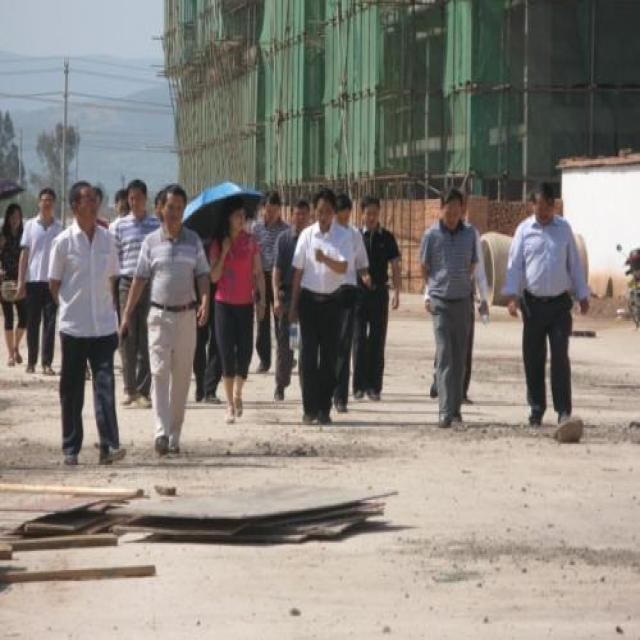no hat: (528, 172, 564, 224), (68, 180, 100, 228), (162, 180, 190, 234), (440, 183, 468, 233), (123, 172, 151, 220), (358, 190, 386, 236), (311, 188, 338, 232), (286, 194, 314, 236), (331, 188, 356, 226), (260, 185, 284, 223), (224, 196, 250, 231), (36, 184, 56, 218), (5, 198, 23, 232), (112, 186, 130, 220)
